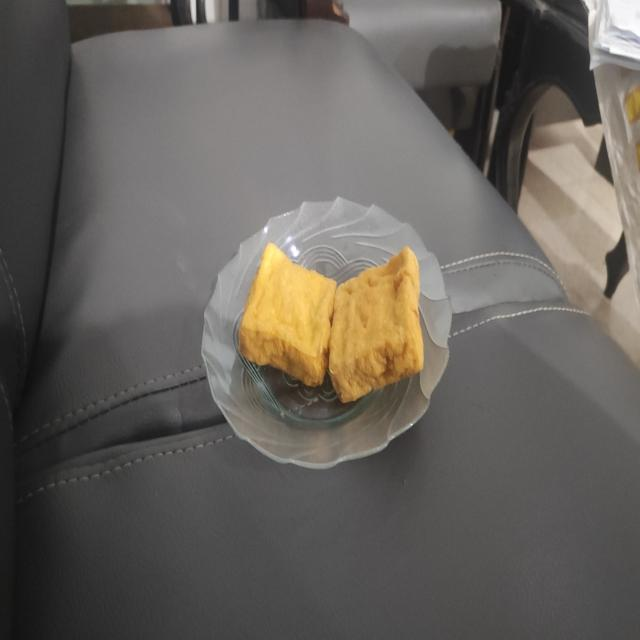tahu_goreng: (328, 246, 424, 402), (238, 242, 336, 386)
